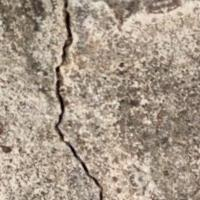crack: (30, 0, 110, 199)
